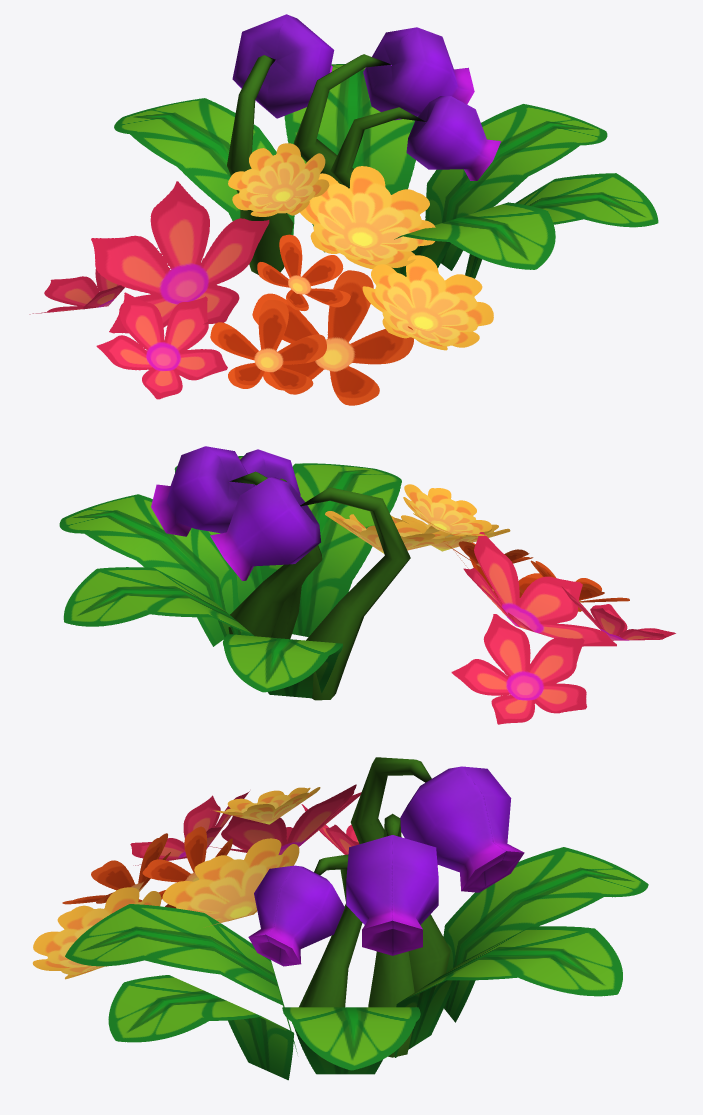
File: Flower_06.FBX
3 views of the same model, one above another, from view 1: azimuth 30°, elevation 25°; view 2: azimuth 150°, elevation 25°; view 3: azimuth 270°, elevation 25° (orthographic). The views are drawn at different scales.
Parts seen in each view (by area): view 1: Flower_06; view 2: Flower_06; view 3: Flower_06.
Part boxes in pixels (<box>): Flower_06: <box>29,14,658,405</box>; Flower_06: <box>59,446,675,724</box>; Flower_06: <box>32,757,648,1080</box>.
Bounding box in the file's own units: 98.13 × 37.41 × 89.06.
